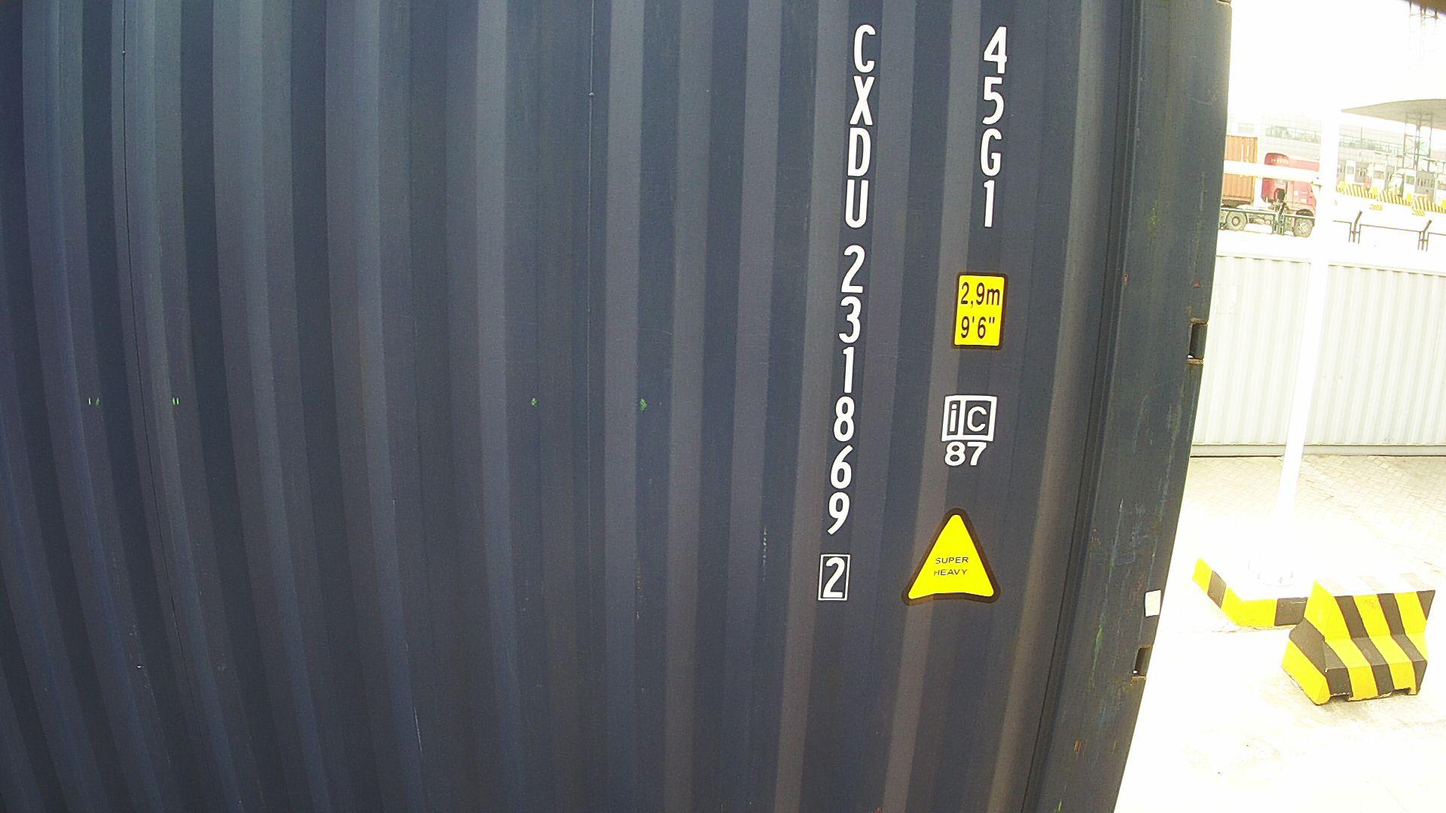container-numbers: (815, 14, 885, 605), (969, 18, 1017, 238)
